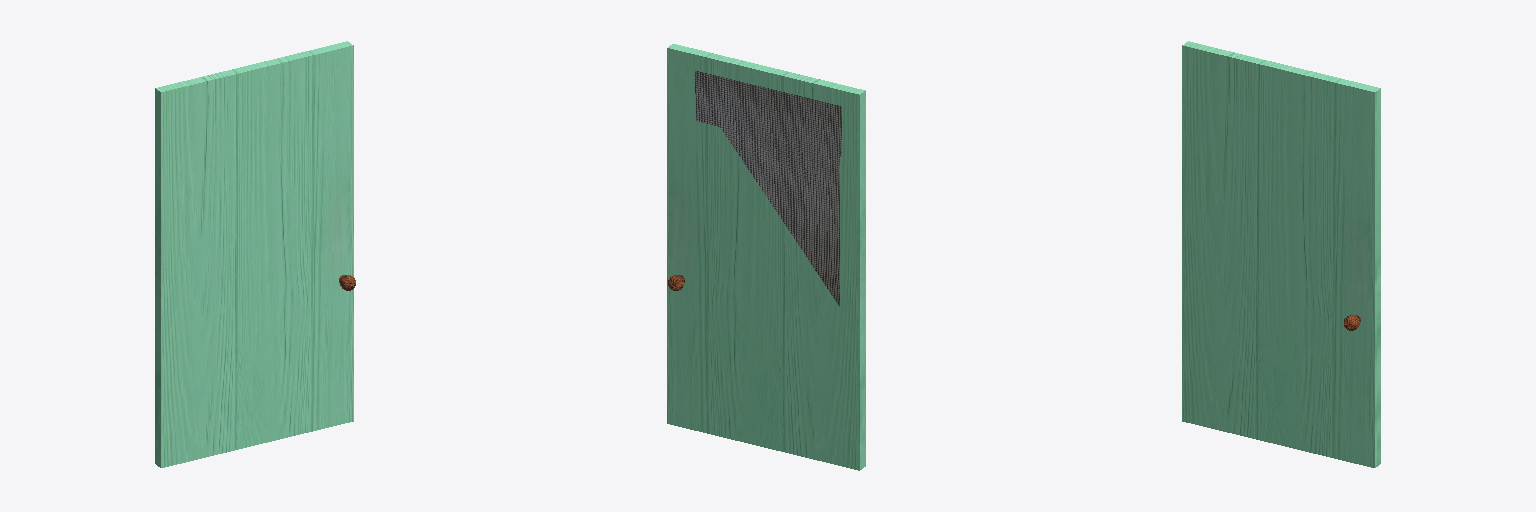
3 renders of one model, left to right at view 1: azimuth 30°, elevation 25°; view 2: azimuth 150°, elevation 25°; view 3: azimuth 330°, elevation 25°, orthographic.
Visible parts, largest first — view 1: pCube7; view 2: pCube7; view 3: pCube7.
Part boxes in pixels (x1,y1,x2,y2): pCube7: (155,41,355,467); pCube7: (667,44,865,470); pCube7: (1182,41,1380,467).
Bounding box in the file's own units: 9.06 × 16.91 × 2.32.
5 materials, 3 textured.